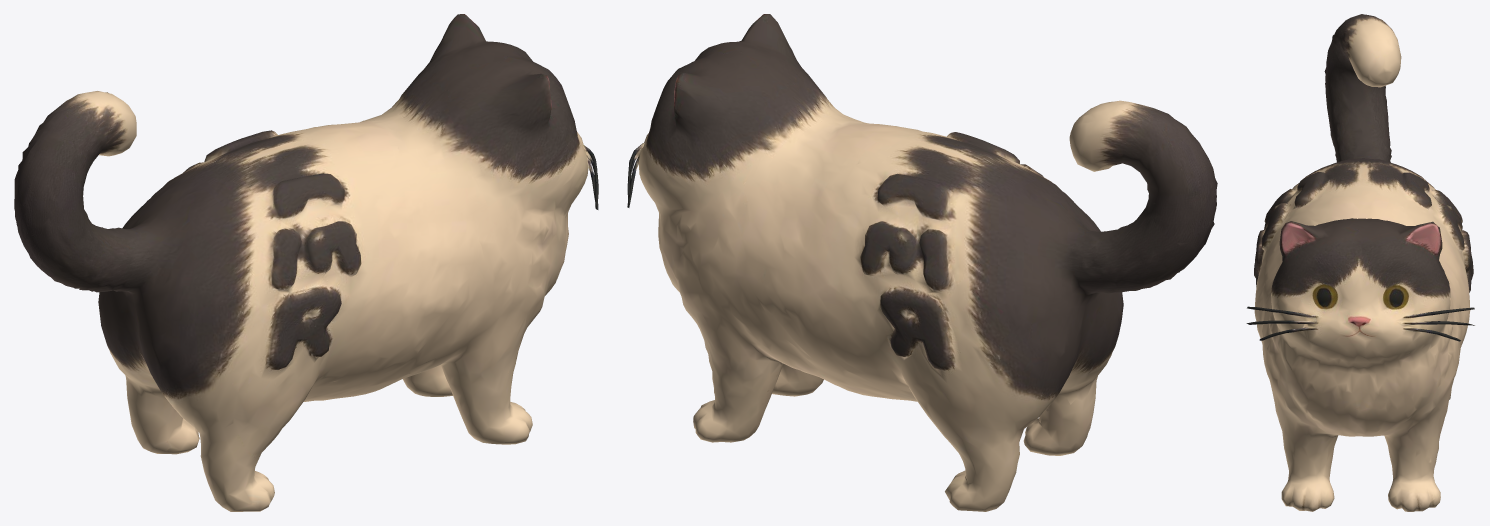
File: AMRCAT.glb
3 renders of one model, left to right at view 1: azimuth 30°, elevation 25°; view 2: azimuth 150°, elevation 25°; view 3: azimuth 270°, elevation 25°, orthographic. The views are drawn at different scales.
Parts seen in each view (by area): view 1: tripo_node_dea9a752-9068-49e7-b13a-117792816362; view 2: tripo_node_dea9a752-9068-49e7-b13a-117792816362; view 3: tripo_node_dea9a752-9068-49e7-b13a-117792816362.
Part boxes in pixels (x1=…): tripo_node_dea9a752-9068-49e7-b13a-117792816362: x1=14, y1=14, x2=598, y2=511; tripo_node_dea9a752-9068-49e7-b13a-117792816362: x1=627, y1=14, x2=1217, y2=511; tripo_node_dea9a752-9068-49e7-b13a-117792816362: x1=1246, y1=14, x2=1474, y2=511.
Bounding box in the file's own units: 1.43 × 1 × 0.624.
1 material, 1 textured.
